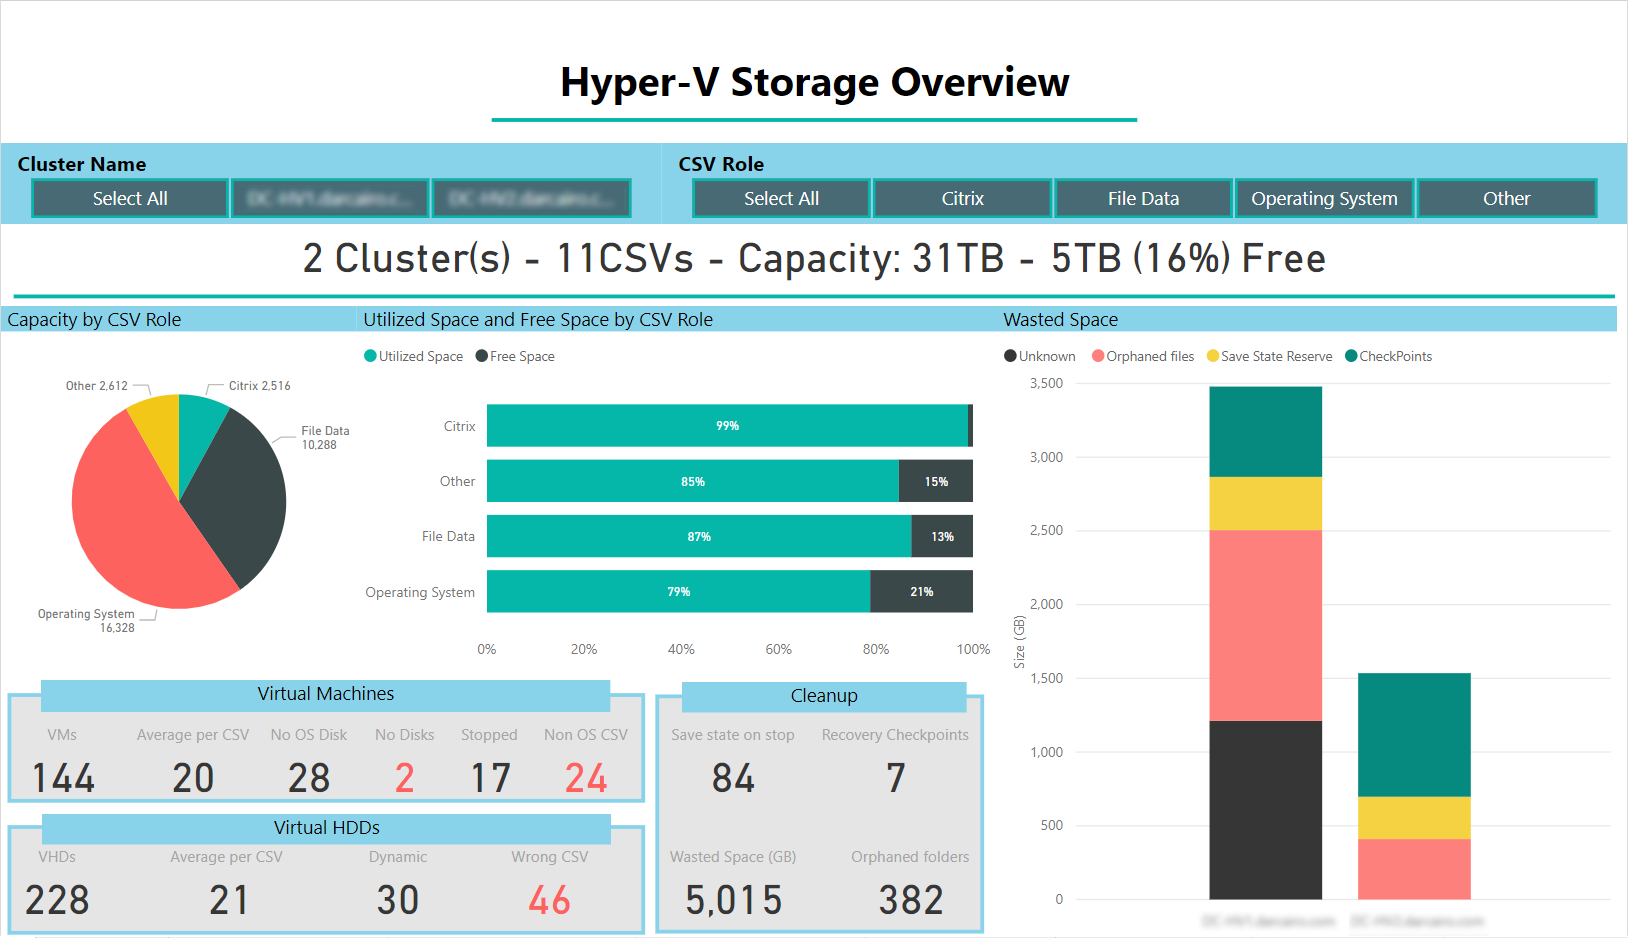

This screenshot's page, from the dashboard's own definition file:
{"tool":"powerbi","page":{"name":"Overview","canvas":[1280,720],"ordinal":0},"visuals":[{"type":"basicShape","box":[376,24,528,56],"z":9},{"type":"basicShape","box":[0,208,1280,16],"z":1000},{"type":"textbox","box":[100,100,300,300],"z":2000},{"type":"card","fields":{"Values":["Disks.HDD Max Expansion"]},"box":[272,648,120,64],"z":4000},{"type":"basicShape","box":[0,528,512,88],"z":5000},{"type":"basicShape","box":[512,528,264,192],"z":5000},{"type":"basicShape","box":[0,632,512,88],"z":5000},{"type":"card","fields":{"Values":["File CSVs.CSV status"]},"box":[0,152,1280,64],"z":7000},{"type":"slicer","fields":{"Values":["File CSVs.ClusterName Hierarchy.ClusterName"]},"box":[0,96,520,64],"z":8000},{"type":"pieChart","fields":{"Category":["File CSVs.ClusterName Hierarchy.Role","File CSVs.ClusterName Hierarchy.Name"],"Y":["File CSVs.Capacity"]},"box":[0,224,280,288],"z":9000},{"type":"hundredPercentStackedBarChart","fields":{"Category":["File CSVs.ClusterName Hierarchy.ClusterName","File CSVs.ClusterName Hierarchy.Role","File CSVs.ClusterName Hierarchy.Name"],"Y":["File CSVs.CSV Utilization (GB)","File CSVs.FreeSpace"]},"box":[280,224,504,288],"z":10000},{"type":"textbox","box":[31.7,518.8,448.3,25.5],"z":10500},{"type":"textbox","box":[536,520,224,24],"z":10500},{"type":"textbox","box":[32,624,448,24],"z":10500},{"type":"slicer","fields":{"Values":["File CSVs.ClusterName Hierarchy.Role"]},"box":[520,96,760,64],"z":11000},{"type":"columnChart","fields":{"Category":["File CSVs.ClusterName Hierarchy.ClusterName","File CSVs.ClusterName Hierarchy.Role","File CSVs.ClusterName Hierarchy.Name"],"Y":["File CSVs.Total Unknown (GB)","File CSVs.Total Orphan (GB)","File CSVs.Total VMRS (GB)","File CSVs.Total CPs Size"]},"box":[784,224,488,496],"z":13000},{"type":"card","fields":{"Values":["FileProblems.Issue"]},"box":[664,648,104,64],"z":14000},{"type":"card","fields":{"Values":["File VMs.StopAction"]},"box":[520,552,112,64],"z":15000},{"type":"card","fields":{"Values":["File CSVs.VHDs Count"]},"box":[0,648,88,64],"z":16000},{"type":"card","fields":{"Values":["File CSVs.VMs Count"]},"box":[0,552,96,64],"z":17000},{"type":"card","fields":{"Values":["Disk Problems.Problem"]},"box":[392,648,80,64],"z":18000},{"type":"card","fields":{"Values":["File CSVs.VMs Count"]},"box":[99.2,552,104,64],"z":19000},{"type":"card","fields":{"Values":["File CSVs.VHDs Count"]},"box":[128,648,104,64],"z":20000},{"type":"card","fields":{"Values":["File CSVs.VMs Count"]},"box":[416,552,88,64],"z":21000},{"type":"card","fields":{"Values":["File CSVs.Total Wasted Space"]},"box":[520,648,112,64],"z":22000},{"type":"card","fields":{"Values":["Files.NetworkPath"]},"box":[272,648,80,64],"z":23000},{"type":"card","fields":{"Values":["VMsProblems.Issue"]},"box":[206.4,552,72,64],"z":24000},{"type":"card","fields":{"Values":["VMsProblems.Issue"]},"box":[281.6,552,72,64],"z":25000},{"type":"card","fields":{"Values":["File VMs.VMState"]},"box":[356.8,552,56,64],"z":26000},{"type":"card","fields":{"Values":["File CheckPoints.CheckPoint Type"]},"box":[640,552,128,64],"z":27000}]}

Visuals, with their boxes in screenshot pixels (x1, y1, x2, y2), scaled from the page's 1280x720 canvas onto the 1628x938 screenshot:
basicShape: l=478, t=31, r=1150, b=104
basicShape: l=0, t=271, r=1627, b=292
textbox: l=127, t=130, r=509, b=521
card - Disks.HDD Max Expansion: l=346, t=844, r=499, b=928
basicShape: l=0, t=688, r=651, b=803
basicShape: l=651, t=688, r=987, b=937
basicShape: l=0, t=823, r=651, b=937
card - File CSVs.CSV status: l=0, t=198, r=1627, b=281
slicer - File CSVs.ClusterName Hierarchy.ClusterName: l=0, t=125, r=661, b=208
pieChart - File CSVs.ClusterName Hierarchy.Role x File CSVs.ClusterName Hierarchy.Name: l=0, t=292, r=356, b=667
hundredPercentStackedBarChart - File CSVs.ClusterName Hierarchy.ClusterName x File CSVs.ClusterName Hierarchy.Role: l=356, t=292, r=997, b=667
textbox: l=40, t=676, r=610, b=709
textbox: l=682, t=677, r=967, b=709
textbox: l=41, t=813, r=610, b=844
slicer - File CSVs.ClusterName Hierarchy.Role: l=661, t=125, r=1627, b=208
columnChart - File CSVs.ClusterName Hierarchy.ClusterName x File CSVs.ClusterName Hierarchy.Role: l=997, t=292, r=1618, b=937
card - FileProblems.Issue: l=845, t=844, r=977, b=928
card - File VMs.StopAction: l=661, t=719, r=804, b=803
card - File CSVs.VHDs Count: l=0, t=844, r=112, b=928
card - File CSVs.VMs Count: l=0, t=719, r=122, b=803
card - Disk Problems.Problem: l=499, t=844, r=600, b=928
card - File CSVs.VMs Count: l=126, t=719, r=258, b=803
card - File CSVs.VHDs Count: l=163, t=844, r=295, b=928
card - File CSVs.VMs Count: l=529, t=719, r=641, b=803
card - File CSVs.Total Wasted Space: l=661, t=844, r=804, b=928
card - Files.NetworkPath: l=346, t=844, r=448, b=928
card - VMsProblems.Issue: l=263, t=719, r=354, b=803
card - VMsProblems.Issue: l=358, t=719, r=450, b=803
card - File VMs.VMState: l=454, t=719, r=525, b=803
card - File CheckPoints.CheckPoint Type: l=814, t=719, r=977, b=803
